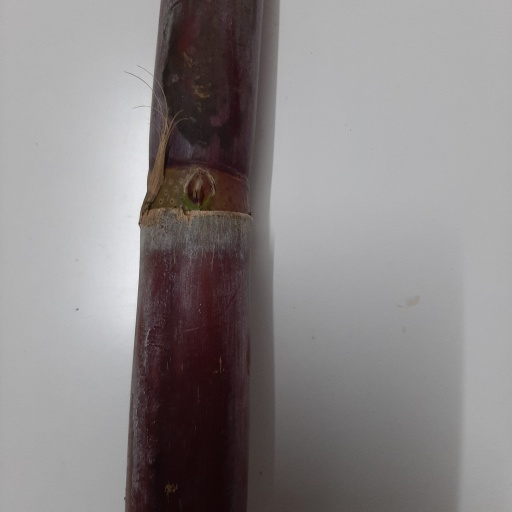Bud: (186, 170, 215, 208)
